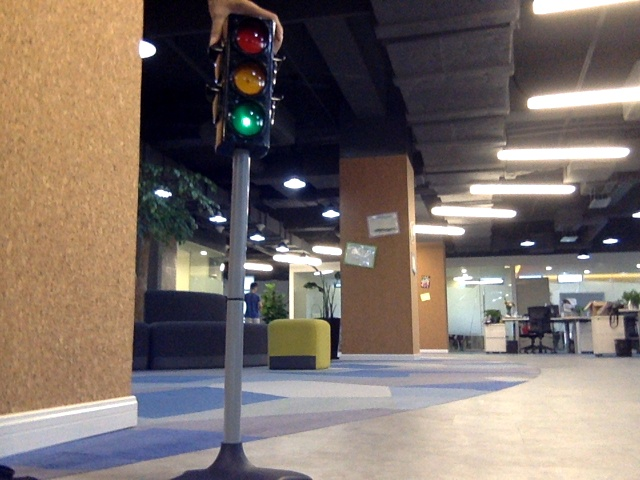green: (227, 20, 270, 140)
